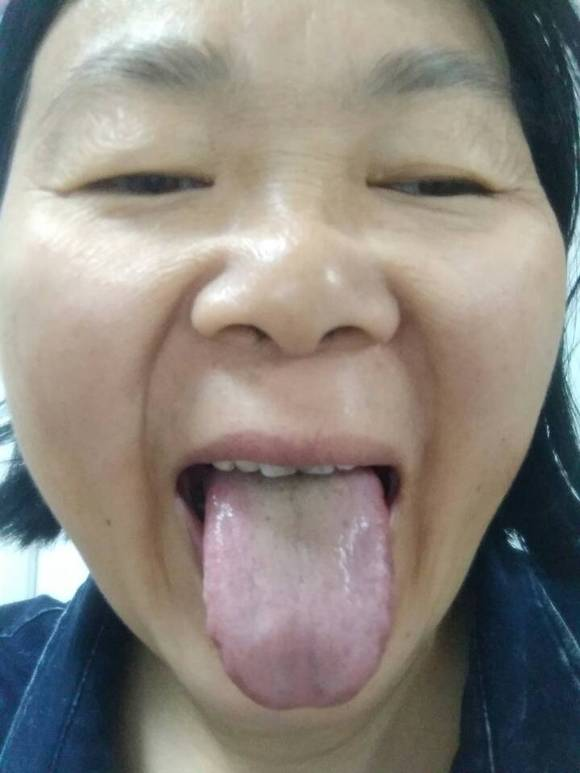chihenshe: (203, 601, 244, 693)
huangtaishe: (203, 462, 393, 709)
